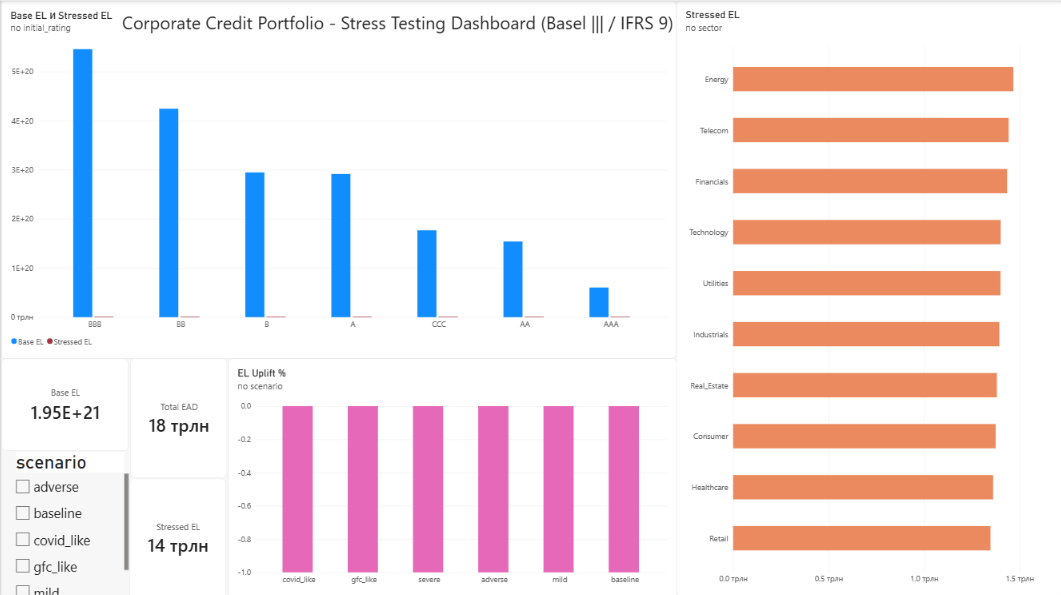

What the dashboard file says about the page in this screenshot:
{"tool":"powerbi","page":{"name":"Страница 1","canvas":[1920,1080],"ordinal":0},"visuals":[{"type":"clusteredColumnChart","fields":{"Category":["v_portfolio_stress_test_202611191731.scenario"],"Y":["v_portfolio_stress_test_202611191731.EL Uplift %"]},"box":[409.9,648.2,811.8,432.1],"z":0},{"type":"slicer","fields":{"Values":["v_portfolio_stress_test_202611191731.scenario"]},"box":[0,815.8,230.2,264.5],"z":1},{"type":"cardVisual","fields":{"Data":["v_portfolio_stress_test_202611191731.Total EAD"]},"box":[234.2,648.2,175.7,216.1],"z":2},{"type":"cardVisual","fields":{"Data":["v_portfolio_stress_test_202611191731.Base EL"]},"box":[0,648.2,230.2,167.6],"z":3},{"type":"cardVisual","fields":{"Data":["v_portfolio_stress_test_202611191731.Stressed EL"]},"box":[232.2,864.3,175.7,216.1],"z":4},{"type":"clusteredBarChart","fields":{"Category":["v_portfolio_stress_test_202611191731.sector"],"Y":["v_portfolio_stress_test_202611191731.Stressed EL"]},"box":[1221.7,0,698.7,1078.3],"z":5},{"type":"clusteredColumnChart","fields":{"Category":["v_portfolio_stress_test_202611191731.initial_rating"],"Y":["v_portfolio_stress_test_202611191731.Base EL","v_portfolio_stress_test_202611191731.Stressed EL"]},"box":[0,0,1221.7,648.2],"z":6},{"type":"textbox","box":[214.1,18.2,1007.7,103],"z":7}]}

Visuals, with their boxes in screenshot pixels (x1, y1, x2, y2), scaled from the page's 1920x1080 canvas onto the 1061x595 screenshot:
clusteredColumnChart - v_portfolio_stress_test_202611191731.scenario x v_portfolio_stress_test_202611191731.EL Uplift %: {"x1": 227, "y1": 357, "x2": 675, "y2": 594}
slicer - v_portfolio_stress_test_202611191731.scenario: {"x1": 0, "y1": 449, "x2": 127, "y2": 594}
cardVisual - v_portfolio_stress_test_202611191731.Total EAD: {"x1": 129, "y1": 357, "x2": 227, "y2": 476}
cardVisual - v_portfolio_stress_test_202611191731.Base EL: {"x1": 0, "y1": 357, "x2": 127, "y2": 449}
cardVisual - v_portfolio_stress_test_202611191731.Stressed EL: {"x1": 128, "y1": 476, "x2": 225, "y2": 594}
clusteredBarChart - v_portfolio_stress_test_202611191731.sector x v_portfolio_stress_test_202611191731.Stressed EL: {"x1": 675, "y1": 0, "x2": 1060, "y2": 594}
clusteredColumnChart - v_portfolio_stress_test_202611191731.initial_rating x v_portfolio_stress_test_202611191731.Base EL: {"x1": 0, "y1": 0, "x2": 675, "y2": 357}
textbox: {"x1": 118, "y1": 10, "x2": 675, "y2": 67}
